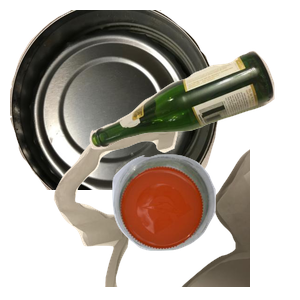glass: (87, 48, 300, 190)
metal: (10, 10, 221, 190)
plastic: (110, 152, 300, 300)
trash: (51, 120, 291, 300)
